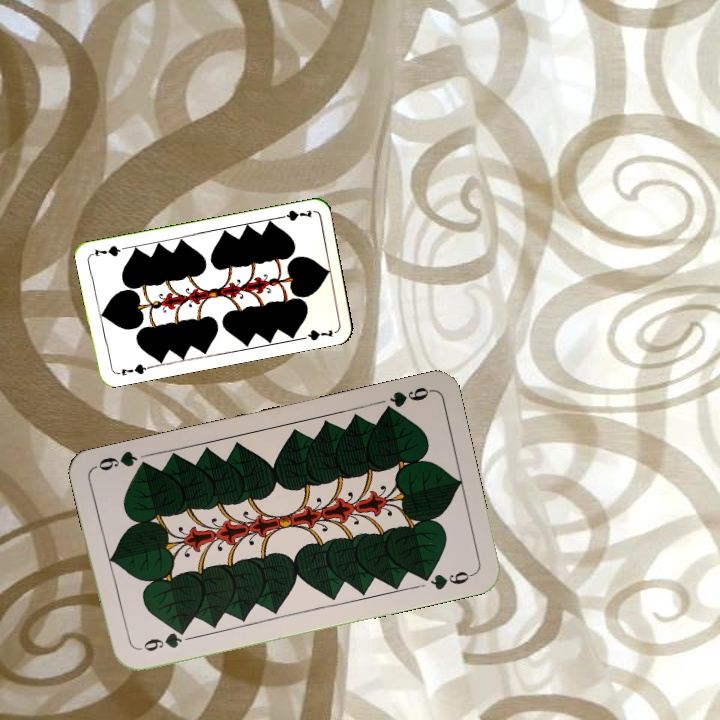G7: (274, 206, 315, 224), (111, 360, 152, 378)
G9: (378, 383, 433, 417), (139, 625, 190, 654)
